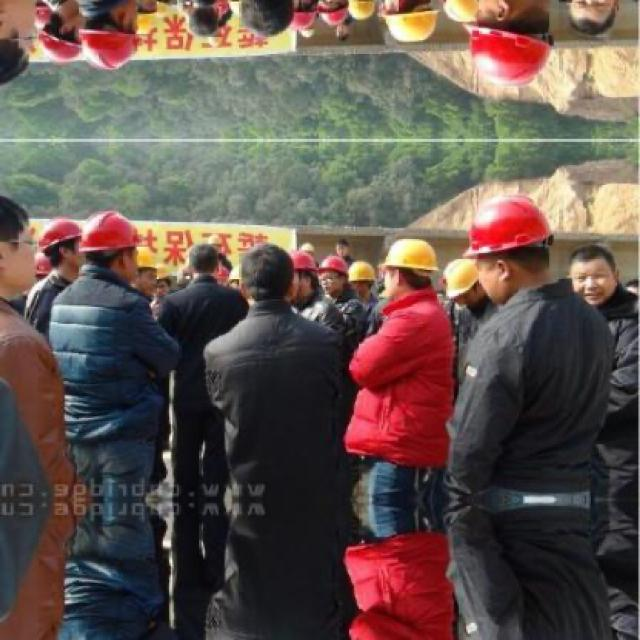con casco: (470, 193, 562, 309), (372, 215, 458, 324), (43, 203, 101, 282), (80, 214, 143, 286), (345, 250, 393, 308), (309, 250, 351, 294)
sin casco: (222, 236, 304, 372), (0, 209, 45, 342), (579, 247, 640, 328)
